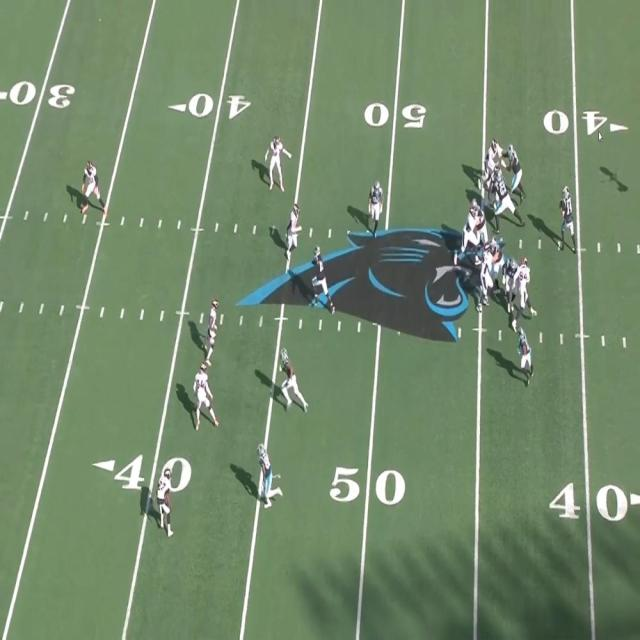db: (196, 364, 215, 426), (85, 159, 103, 218), (157, 477, 173, 532), (205, 306, 218, 364), (270, 136, 284, 188)
lb: (486, 140, 500, 195), (288, 204, 299, 261)
qb: (562, 186, 575, 248)
skill: (280, 349, 300, 408), (313, 248, 332, 308), (257, 448, 272, 508), (371, 181, 385, 234), (519, 328, 531, 382)
